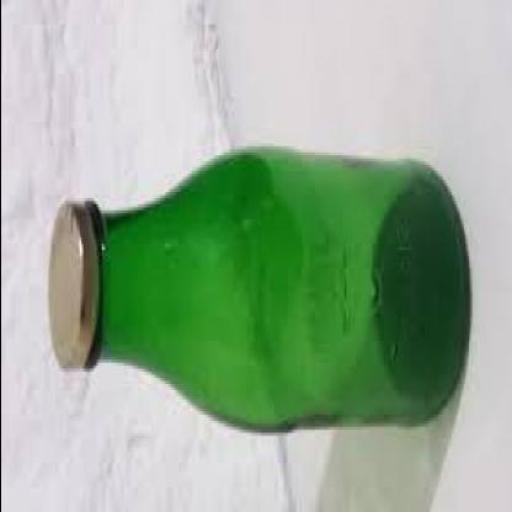glass: (82, 150, 468, 438)
metal: (46, 206, 94, 372)
